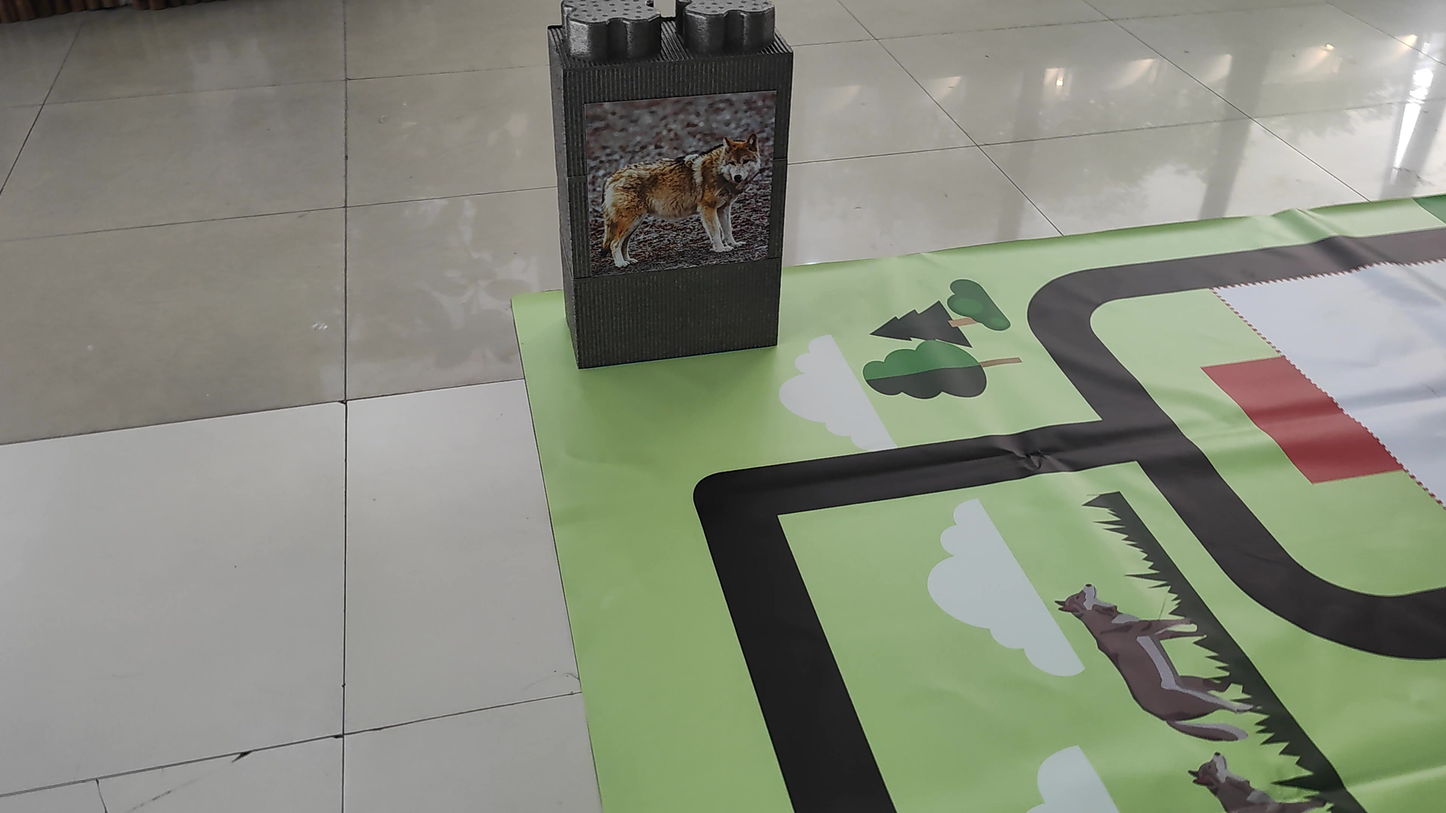wolf: (583, 112, 768, 261)
